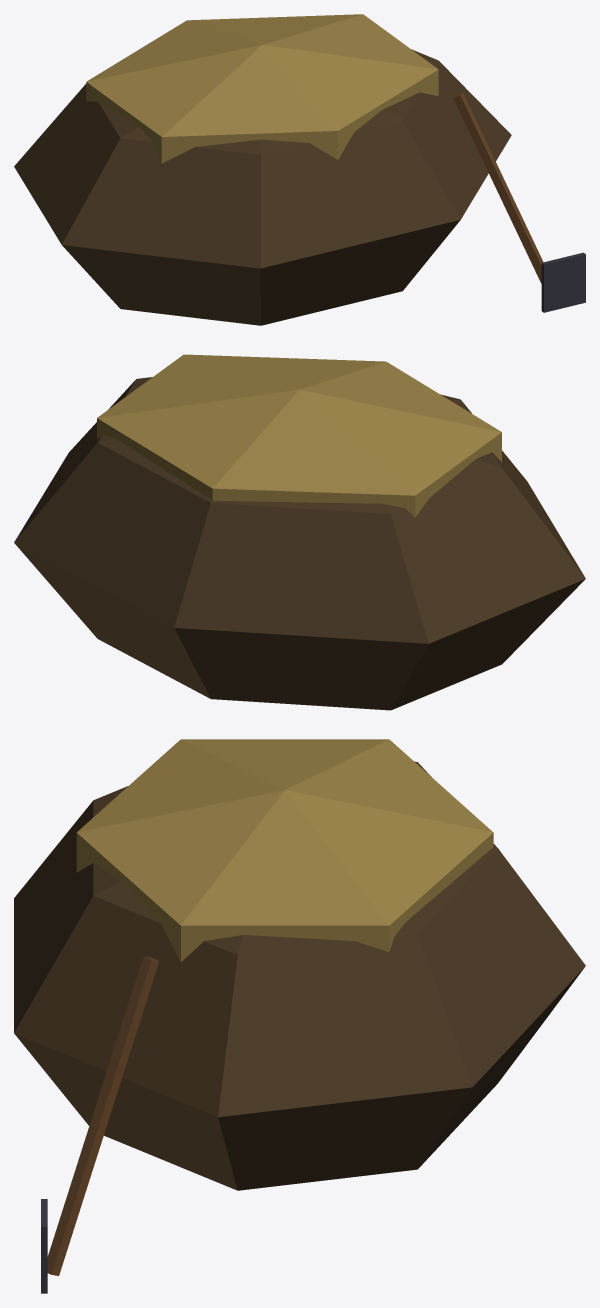
The model's file is a1r_manure_heap.glb.
3 renders of one model, top to bottom at view 1: azimuth 30°, elevation 25°; view 2: azimuth 150°, elevation 25°; view 3: azimuth 270°, elevation 25°, orthographic. The views are drawn at different scales.
Parts seen in each view (by area): view 1: a1r_manure_heap; view 2: a1r_manure_heap; view 3: a1r_manure_heap.
Part boxes in pixels (left/top/right/bottom): a1r_manure_heap: left=14, top=14, right=585, bottom=325; a1r_manure_heap: left=14, top=354, right=585, bottom=710; a1r_manure_heap: left=14, top=739, right=585, bottom=1293.
Size of the model in its own units: 2.19 by 1.14 by 1.71.
